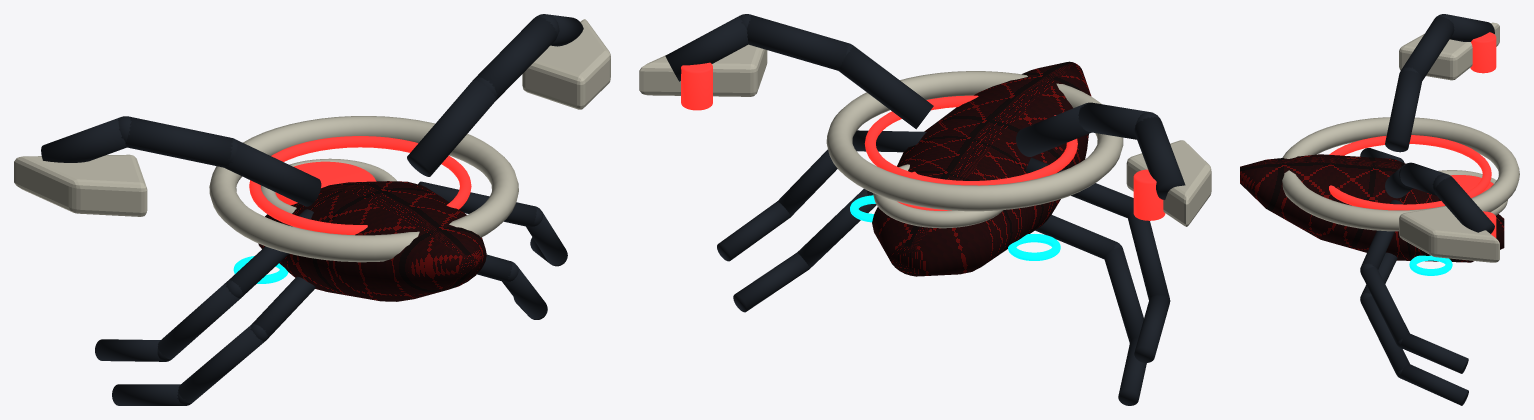
The model's file is pulseCathedralSentinelV6.candidate.glb.
3 renders of one model, left to right at view 1: azimuth 30°, elevation 25°; view 2: azimuth 150°, elevation 25°; view 3: azimuth 270°, elevation 25°, orthographic. The views are drawn at different scales.
Visible parts, largest first — view 1: sentinel vertical armored reliquary, sentinel enormous crown halo, sentinel ivory execution blade -1, sentinel ivory execution blade 1, sentinel broken ember halo core, sentinel upper scythe arm 1 segment 0, sentinel upper scythe arm -1 segment 1, sentinel upper scythe arm -1 segment 0, sentinel upper scythe arm 1 segment 1, sentinel upper scythe arm -1 segment 2, sentinel hooked limb -1 0 segment 1, sentinel hooked limb -1 1 segment 1 (+11 smaller); view 2: sentinel vertical armored reliquary, sentinel enormous crown halo, sentinel ivory execution blade 1, sentinel ivory execution blade -1, sentinel upper scythe arm 1 segment 1, sentinel upper scythe arm 1 segment 0, sentinel broken ember halo core, sentinel upper scythe arm 1 segment 2, sentinel upper scythe arm -1 segment 2, sentinel eye aperture, sentinel upper scythe arm -1 segment 0, sentinel hooked limb -1 0 segment 1 (+14 smaller); view 3: sentinel vertical armored reliquary, sentinel enormous crown halo, sentinel ivory execution blade 1, sentinel broken ember halo core, sentinel upper scythe arm -1 segment 0, sentinel ivory execution blade -1, sentinel upper scythe arm 1 segment 2, sentinel upper scythe arm -1 segment 1, sentinel hooked limb 1 1 segment 1, sentinel hooked limb 1 0 segment 2, sentinel hooked limb 1 1 segment 2, sentinel hooked limb 1 0 segment 1 (+10 smaller).
Boxes of the visible parts, x1,y1,x2,y2 form: sentinel vertical armored reliquary: (258,181,486,301); sentinel enormous crown halo: (209,116,518,262); sentinel ivory execution blade -1: (14,154,147,216); sentinel ivory execution blade 1: (522,19,610,109); sentinel broken ember halo core: (249,136,471,234); sentinel upper scythe arm 1 segment 0: (407,80,496,176); sentinel upper scythe arm -1 segment 1: (125,116,232,167); sentinel upper scythe arm -1 segment 0: (224,139,321,206); sentinel upper scythe arm 1 segment 1: (473,17,557,100); sentinel upper scythe arm -1 segment 2: (41,117,126,162); sentinel hooked limb -1 0 segment 1: (178,325,264,403); sentinel hooked limb -1 1 segment 1: (157,282,240,359); sentinel vertical armored reliquary: (872,61,1091,276); sentinel enormous crown halo: (826,71,1123,211); sentinel ivory execution blade 1: (639,44,767,96); sentinel ivory execution blade -1: (1126,140,1211,226); sentinel upper scythe arm 1 segment 1: (747,15,848,70); sentinel upper scythe arm 1 segment 0: (838,46,933,129); sentinel broken ember halo core: (864,95,1077,185); sentinel upper scythe arm 1 segment 2: (665,16,748,81); sentinel upper scythe arm -1 segment 2: (1134,117,1185,199); sentinel eye aperture: (873,164,1003,228); sentinel upper scythe arm -1 segment 0: (1016,104,1091,156); sentinel hooked limb -1 0 segment 1: (1104,247,1143,343); sentinel vertical armored reliquary: (1240,154,1504,262); sentinel enormous crown halo: (1282,117,1519,231); sentinel ivory execution blade 1: (1399,206,1499,262); sentinel broken ember halo core: (1329,135,1491,210); sentinel upper scythe arm -1 segment 0: (1385,70,1422,152); sentinel ivory execution blade -1: (1399,22,1499,80); sentinel upper scythe arm 1 segment 2: (1434,177,1494,233); sentinel upper scythe arm -1 segment 1: (1401,16,1454,80); sentinel hooked limb 1 1 segment 1: (1361,266,1409,343); sentinel hooked limb 1 0 segment 2: (1400,364,1468,405); sentinel hooked limb 1 1 segment 2: (1400,333,1468,373); sentinel hooked limb 1 0 segment 1: (1361,296,1409,373).
Size of the model in its own units: 5.14 by 2.56 by 2.78.
5 materials, 1 textured.
